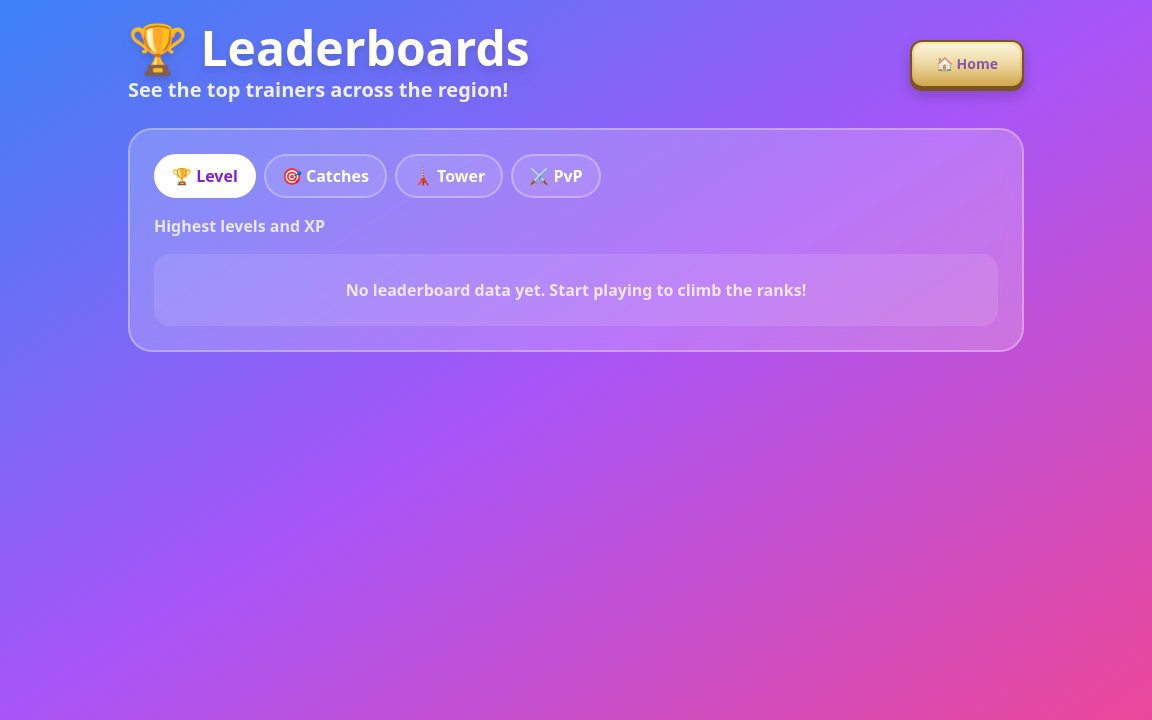
Test: Leaderboards Page › loads tower rankings when the Tower tab is selected
This screenshot has width=1152, height=720.
Step 1. Click the button "🗼 Tower" → x=449, y=176, box [395,154,503,198]
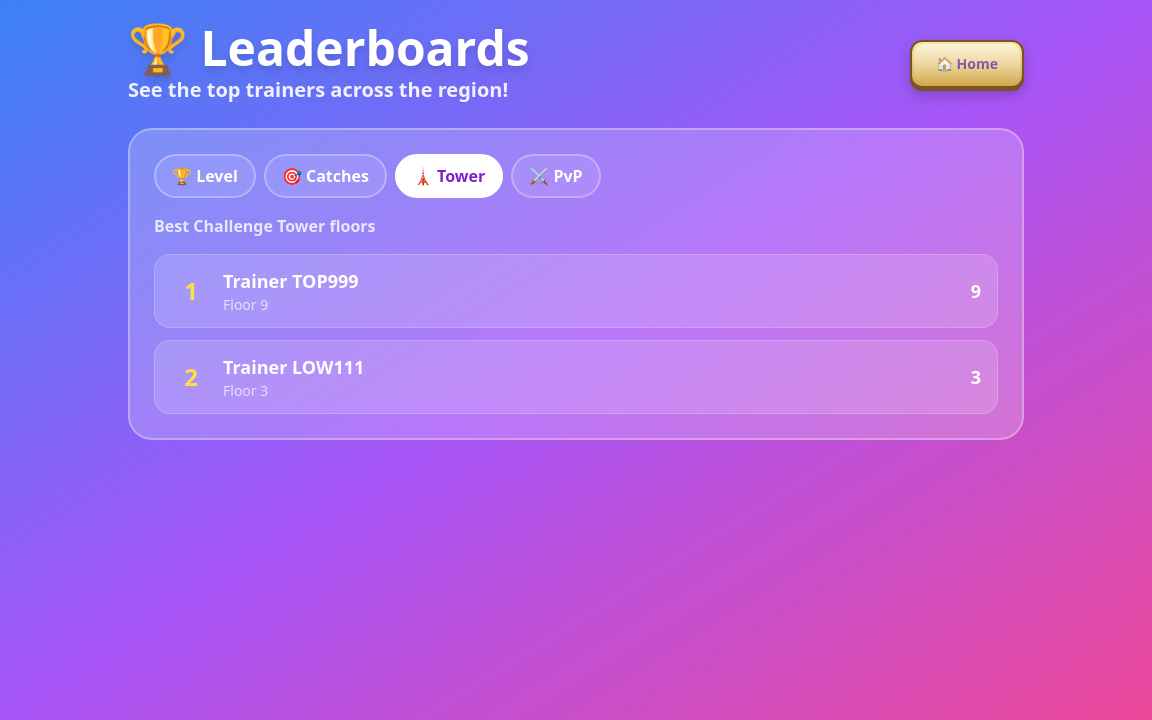
Expected: the text "Floor 9" is shown, [223,295,268,314]
Expected: the text "Floor 3" is shown, [223,381,268,400]
Expected: the text "Trainer TOP999" is shown, [223,267,359,295]
